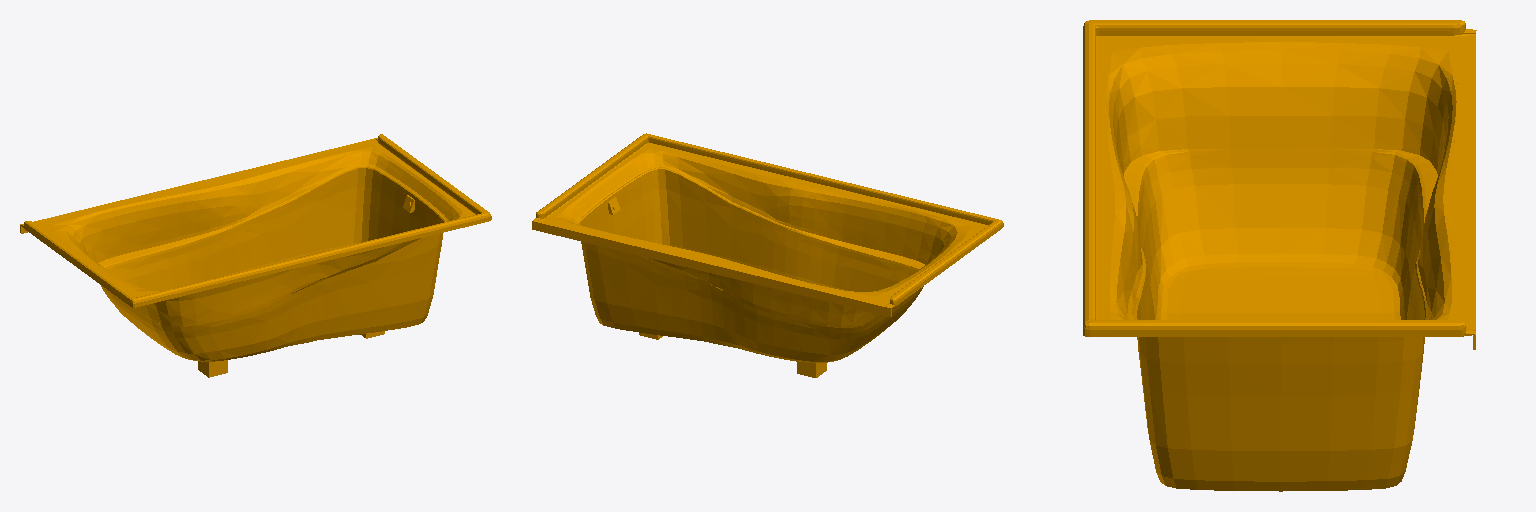
The robot description file, URDF, robot "1f5642ecc73ef347323f2769d46520fa":
<?xml version="1.0" ?>
<robot name="1f5642ecc73ef347323f2769d46520fa" version="1.0">
  <link name="base_link">
    <inertial>
      <origin rpy="0.0 0.0 0.0" xyz="0.0 0.0 0.0"/>
      <mass value="0.0"/>
      <inertia ixx="0.001" ixy="0.0" ixz="0.0" iyy="0.001" iyz="0.0" izz="0.001"/>
    </inertial>
    <visual name="1f5642ecc73ef347323f2769d46520fa___1">
      <origin rpy="0.0 0.0 0.0" xyz="0.0 -0.0 0.0"/>
      <geometry>
        <mesh filename="shape/visual/1f5642ecc73ef347323f2769d46520fa_m1_vm.obj"/>
      </geometry>
    </visual>
    <collision>
      <origin rpy="0.0 0.0 0.0" xyz="0.0 -0.0 0.0"/>
      <geometry>
        <mesh filename="shape/collision/1f5642ecc73ef347323f2769d46520fa_cm.obj"/>
      </geometry>
    </collision>
  </link>
</robot>

--- What the picture shows (computed from the rendered views, not written in the file) ---
Views: 3 orthographic renders of the robot side by side, from view 1: azimuth 30°, elevation 25°; view 2: azimuth 150°, elevation 25°; view 3: azimuth 270°, elevation 25°.
Robot: 1f5642ecc73ef347323f2769d46520fa — 1 links, 0 joints (none); root link base_link; default pose: all joints at 0.
Visible links, largest first — view 1: base_link; view 2: base_link; view 3: base_link.
Link boxes in pixels (x1,y1,x2,y2): base_link: (20,134,491,377); base_link: (532,133,1003,377); base_link: (1083,20,1476,491).
Bounding box of the posed robot: 0.8454 × 0.4595 × 0.2722 m (x, y, z).
1 mesh visuals loaded from 1 distinct referenced files (1 OBJ).